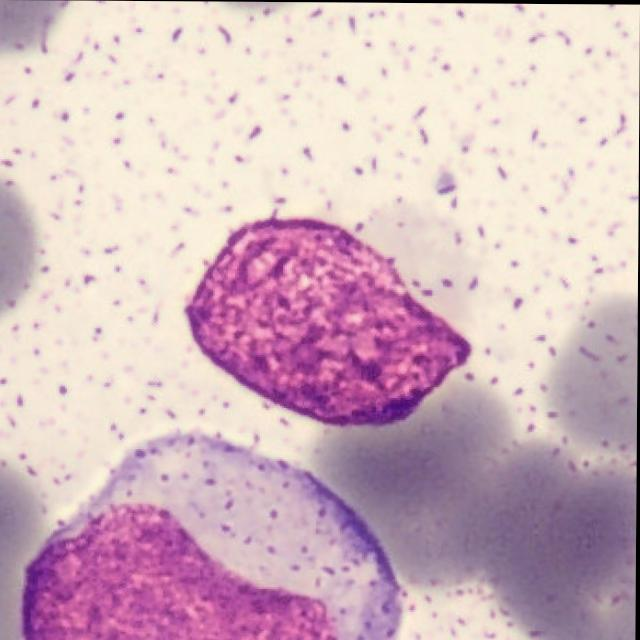Mieloblasto: (24, 433, 408, 640)
Restos celulares: (184, 217, 472, 428)
